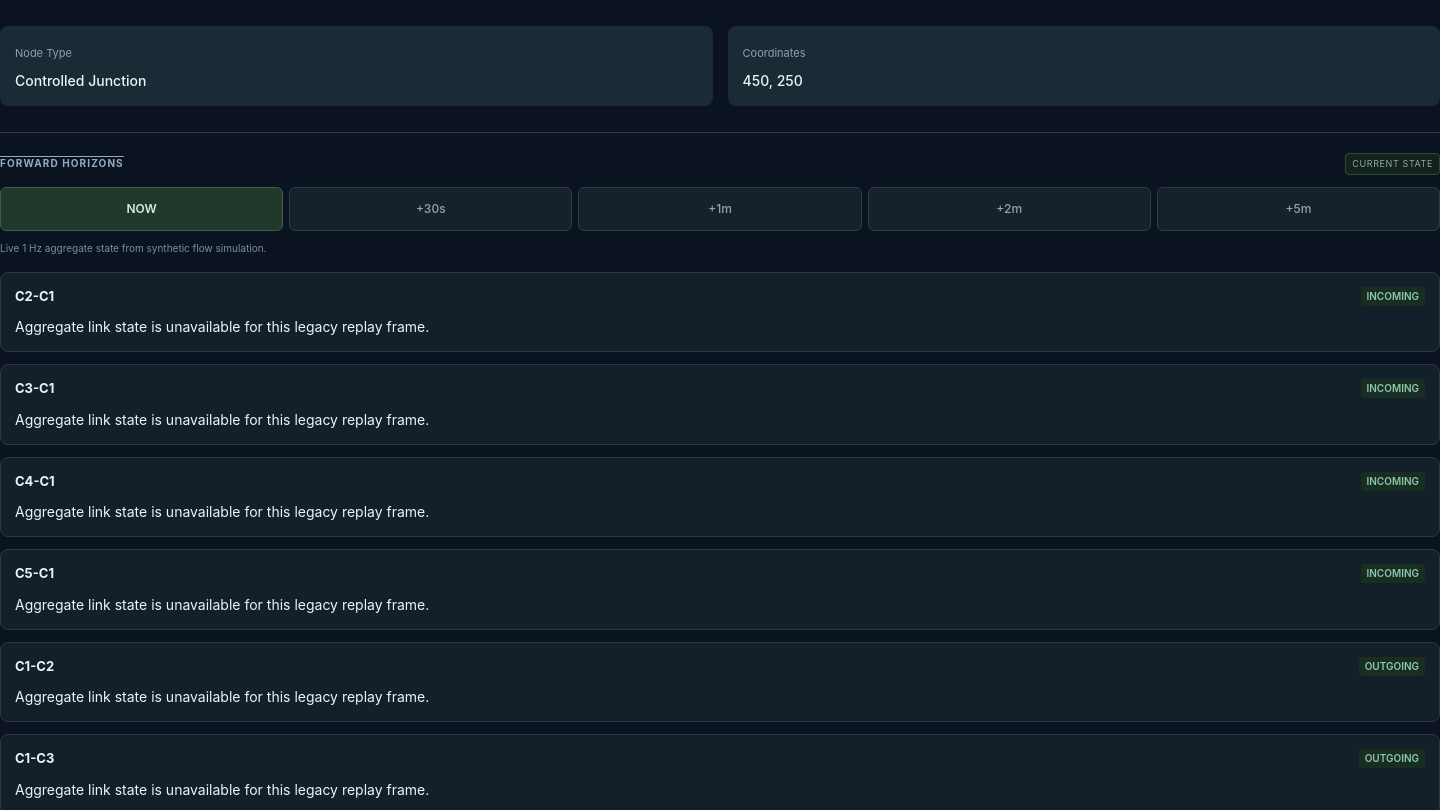
Test: Epic 4 (S11 & S12): Forecasts, Platoons & Spillback Intelligence › Story S12: renders platoon arrival waveform with ETA tolerance and upstream source
Switch to +2m horizon
Click the button "+2m": (1009, 208) x1=868 y1=186 x2=1151 y2=230
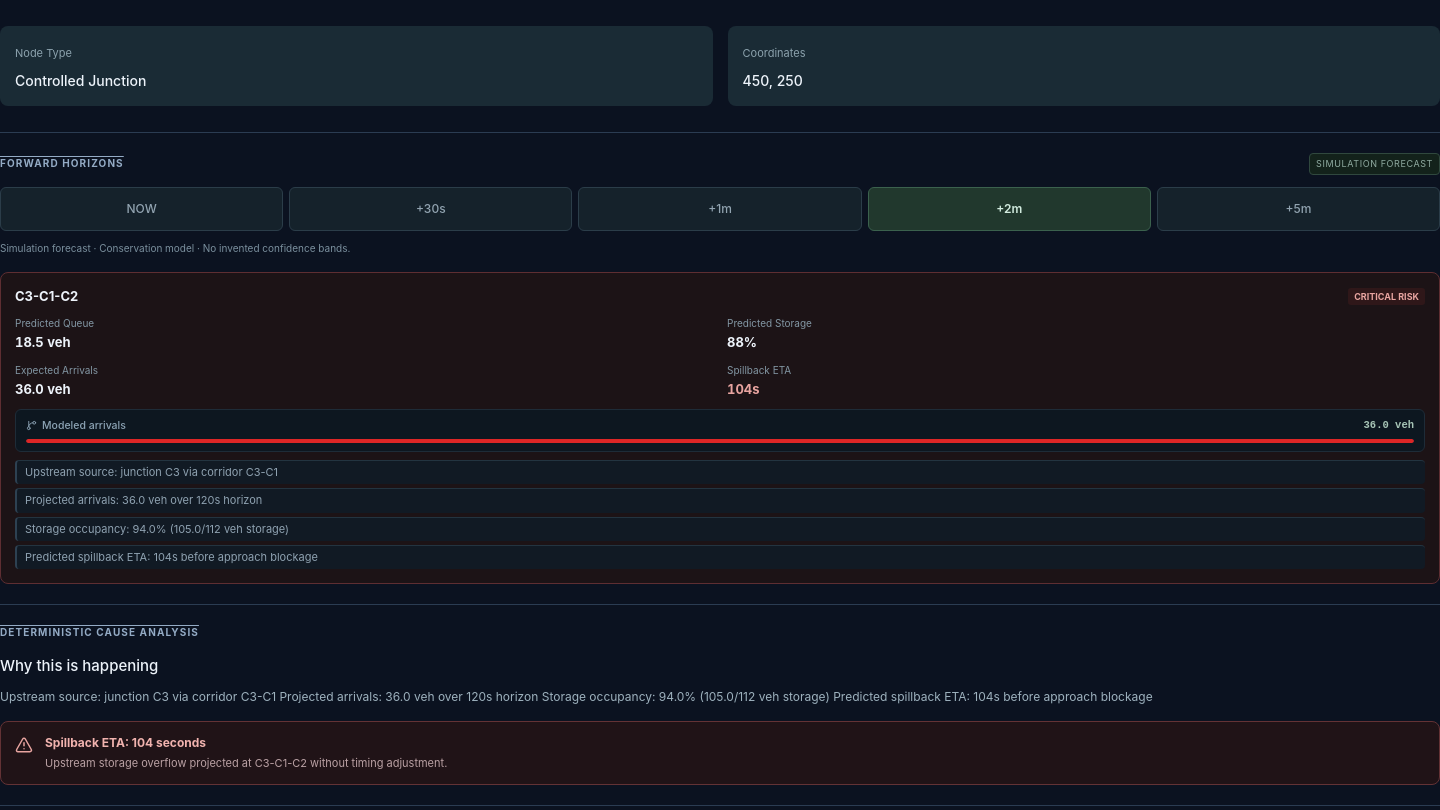
Expected: the text "Modeled arrivals" is shown, x1=26 y1=418 x2=126 y2=434
Expected: the text "Upstream source: junction C3 via corridor C3-C1" is shown, x1=15 y1=460 x2=1425 y2=484
Expected: the text "Predicted spillback ETA: 104s before approach blockage" is shown, x1=15 y1=545 x2=1425 y2=569
